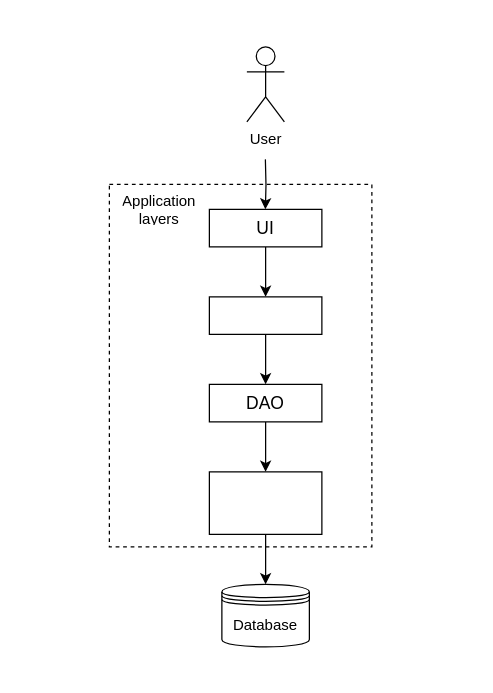
This 493x693 diagram has some shape labels left out. Each missing label, with the box of its shape:
Persistence Model: (208, 471, 322, 534)
Service: (208, 296, 322, 334)
